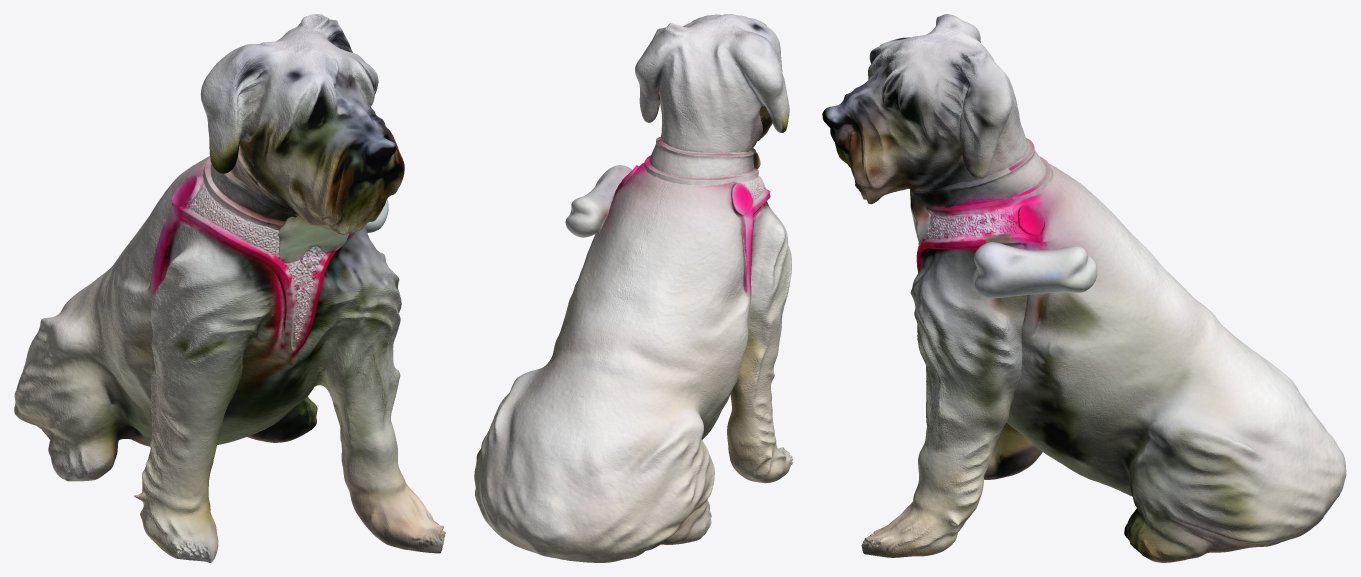
The model's file is perrita fabio V2.GLB.
The picture shows the model from 3 angles, left to right: view 1: azimuth 30°, elevation 25°; view 2: azimuth 150°, elevation 25°; view 3: azimuth 270°, elevation 25°; orthographic projection. The views are drawn at different scales.
Parts seen in each view (by area): view 1: tmpdzwkq3ou.obj; view 2: tmpdzwkq3ou.obj; view 3: tmpdzwkq3ou.obj.
Boxes of the visible parts, box(x1,y1,x2,y2) form: tmpdzwkq3ou.obj: box(14, 14, 445, 562); tmpdzwkq3ou.obj: box(474, 14, 793, 562); tmpdzwkq3ou.obj: box(822, 14, 1346, 562).
Size of the model in its own units: 0.7801 by 1.46 by 1.46.
Materials: 1 (1 with a texture image).
